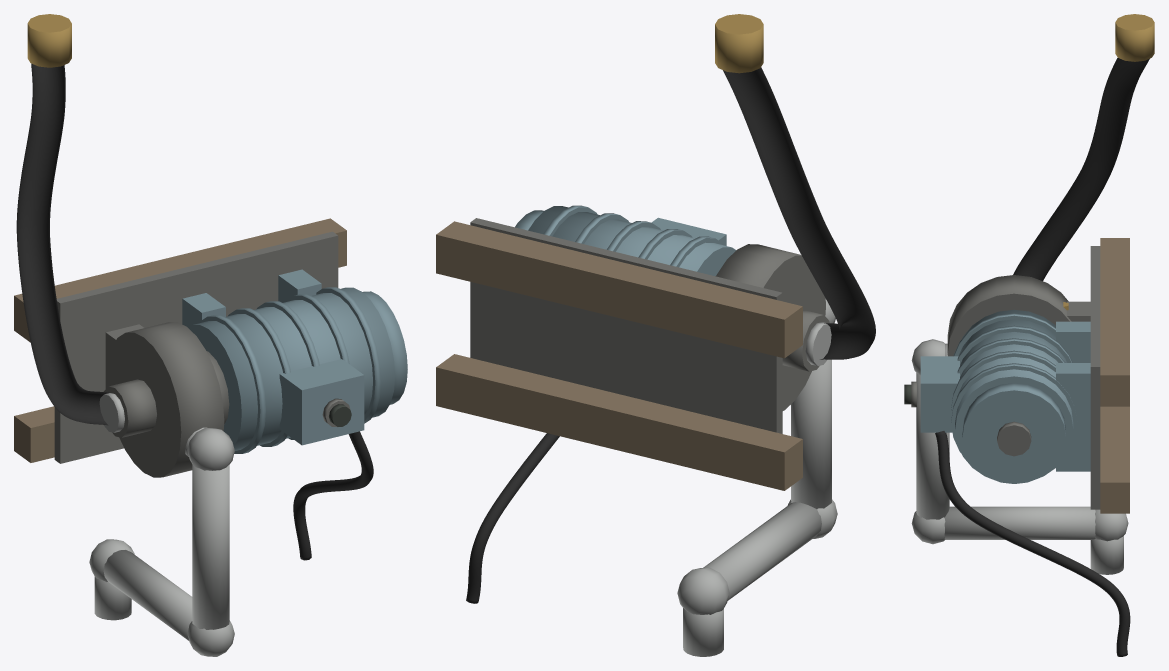
The model's file is pump_off.obj.
The picture shows the model from 3 angles, left to right: view 1: azimuth 30°, elevation 25°; view 2: azimuth 150°, elevation 25°; view 3: azimuth 270°, elevation 25°; orthographic projection. The views are drawn at different scales.
Visible parts, largest first — view 1: base_plate, motor, suction_hose, volute, discharge_run, terminal_box, skid-0.12, discharge_drop, power_cord, foot_valve, skid0.12, suction_port (+13 smaller); view 2: base_plate, skid-0.12, skid0.12, suction_hose, volute, discharge_drop, discharge_run, motor, foot_valve, power_cord, discharge_elbow3, pipe1_out (+3 smaller); view 3: motor_bell, suction_hose, motor, skid-0.12, discharge_drop, volute, power_cord, skid0.12, base_plate, terminal_box, discharge_run, motor_foot0.35 (+13 smaller).
Part boxes in pixels (x1,y1,x2,y2): base_plate: (54,231,338,463); motor: (188,287,395,450); suction_hose: (16,63,108,425); volute: (106,322,224,477); discharge_run: (192,464,229,629); terminal_box: (279,359,364,445); skid-0.12: (14,218,346,342); discharge_drop: (103,550,192,640); power_cord: (293,431,373,560); foot_valve: (27,14,71,67); skid0.12: (14,406,54,462); suction_port: (103,379,156,437); base_plate: (470,218,782,433); skid-0.12: (436,221,802,358); skid0.12: (436,354,802,490); suction_hose: (723,67,875,359); volute: (716,244,825,410); discharge_drop: (703,502,821,600); discharge_run: (791,359,831,508); motor: (528,206,736,275); foot_valve: (715,14,763,73); power_cord: (466,433,559,603); discharge_elbow3: (677,567,729,614); pipe1_out: (683,608,723,656); motor_bell: (962,383,1065,483); suction_hose: (1013,58,1149,280); motor: (955,309,1073,477); skid-0.12: (1100,238,1129,406); discharge_drop: (944,506,1095,539); volute: (947,275,1071,356); power_cord: (935,431,1130,656); skid0.12: (1100,406,1129,513); base_plate: (1090,246,1100,509); terminal_box: (920,356,959,432); discharge_run: (916,373,949,519); motor_foot0.35: (1056,363,1090,471).
Bounding box in the file's own units: 0.7144 × 1.18 × 0.508.
7 materials, 7 textured.
